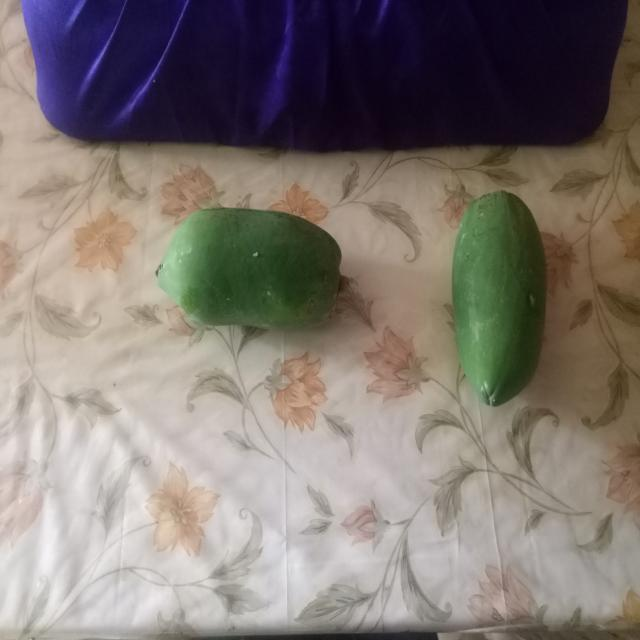Pepaya unrippen: (155, 197, 358, 334), (446, 175, 551, 418)
